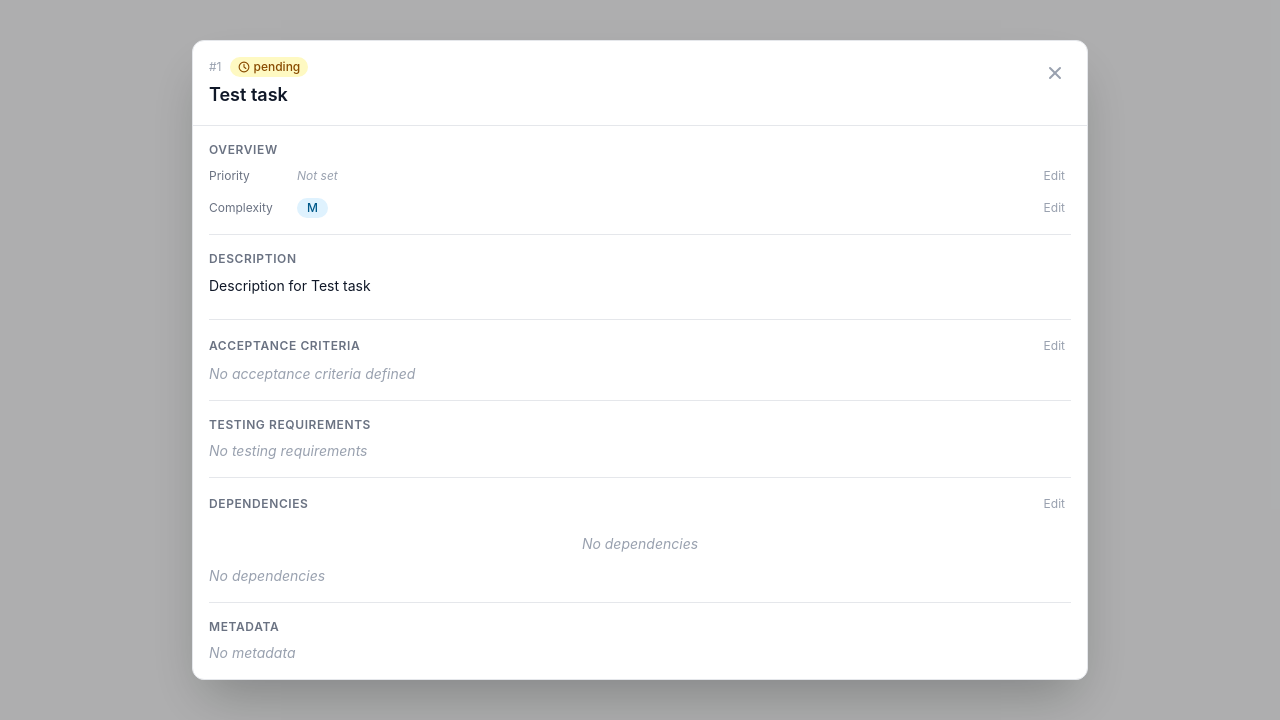
TaskDetailPanel inline editing › complexity editing › shows complexity dropdown when edit is clicked
The width and height of the screenshot is (1280, 720).
Click the button with test id "edit-complexity-button": [1054, 208] box x1=1038 y1=198 x2=1071 y2=218
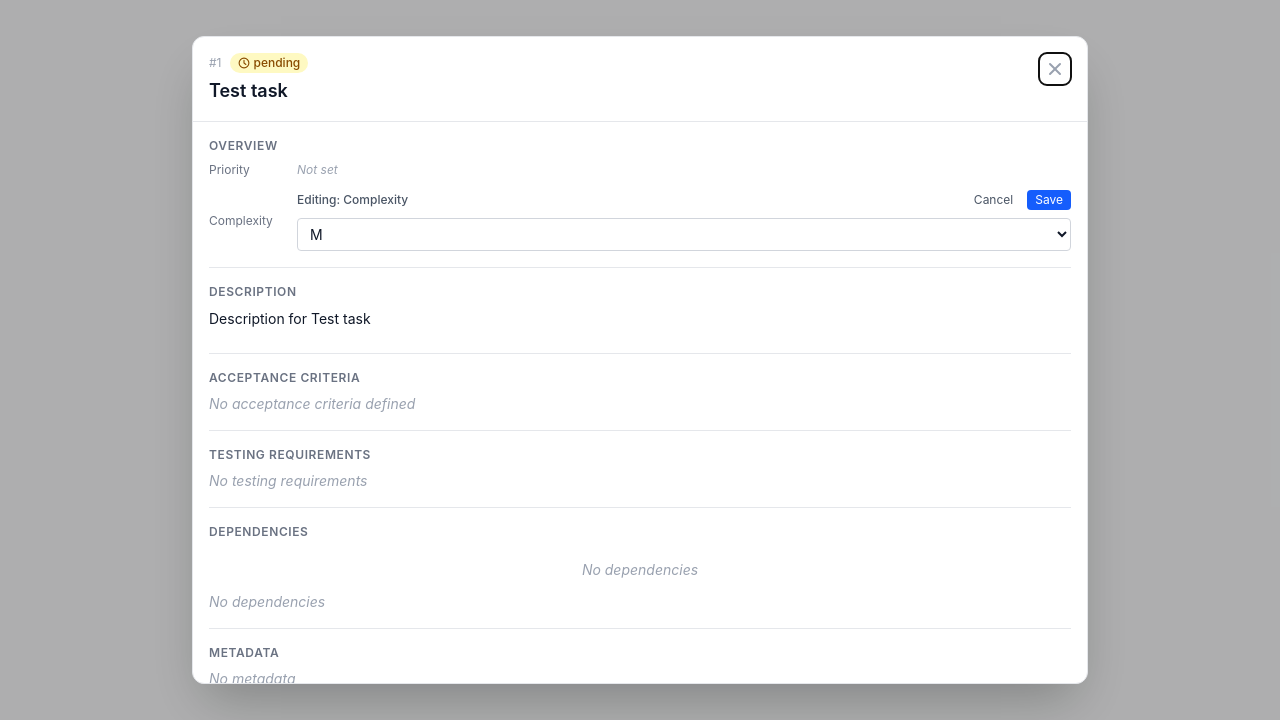
Expected: the dropdown with test id "complexity-select" is shown, x1=297 y1=218 x2=1071 y2=251
